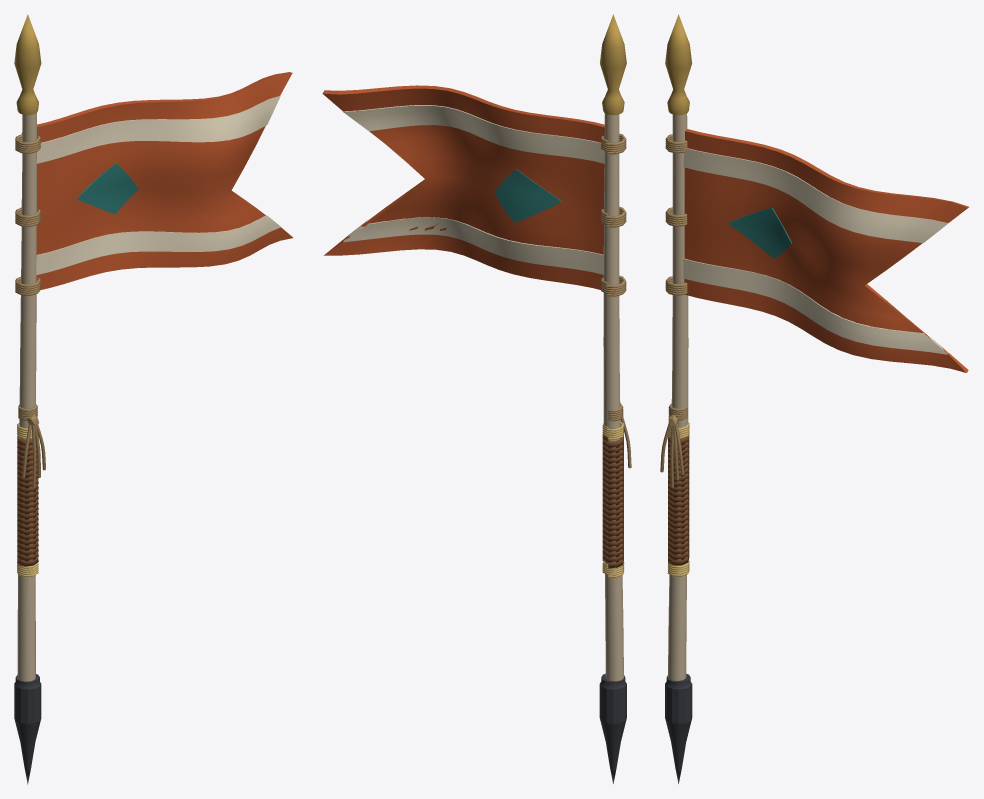
File: tool_signalflag.fbx
The picture shows the model from 3 angles, left to right: view 1: azimuth 30°, elevation 25°; view 2: azimuth 150°, elevation 25°; view 3: azimuth 330°, elevation 25°; orthographic projection.
Parts seen in each view (by area): view 1: Tool_SignalFlag_Cloth, Tool_SignalFlag_ClothTrim, Tool_SignalFlag_Staff, Tool_SignalFlag_GripWrap, Tool_SignalFlag_Ties, Tool_SignalFlag_IronWork, Tool_SignalFlag_Finial; view 2: Tool_SignalFlag_Cloth, Tool_SignalFlag_ClothTrim, Tool_SignalFlag_Staff, Tool_SignalFlag_GripWrap, Tool_SignalFlag_IronWork, Tool_SignalFlag_Finial, Tool_SignalFlag_Ties; view 3: Tool_SignalFlag_Cloth, Tool_SignalFlag_ClothTrim, Tool_SignalFlag_Staff, Tool_SignalFlag_GripWrap, Tool_SignalFlag_Ties, Tool_SignalFlag_IronWork, Tool_SignalFlag_Finial.
Boxes of the visible parts, box(x1,y1,x2,y2) form: Tool_SignalFlag_Cloth: box(36, 72, 293, 289); Tool_SignalFlag_ClothTrim: box(36, 95, 280, 274); Tool_SignalFlag_Staff: box(17, 113, 36, 681); Tool_SignalFlag_GripWrap: box(17, 423, 38, 577); Tool_SignalFlag_Ties: box(15, 132, 45, 487); Tool_SignalFlag_IronWork: box(14, 674, 41, 784); Tool_SignalFlag_Finial: box(14, 14, 41, 115); Tool_SignalFlag_Cloth: box(322, 85, 604, 289); Tool_SignalFlag_ClothTrim: box(342, 105, 604, 274); Tool_SignalFlag_Staff: box(603, 113, 623, 681); Tool_SignalFlag_GripWrap: box(602, 421, 624, 577); Tool_SignalFlag_IronWork: box(599, 673, 626, 783); Tool_SignalFlag_Finial: box(600, 14, 626, 115); Tool_SignalFlag_Ties: box(601, 133, 631, 468); Tool_SignalFlag_Cloth: box(684, 129, 968, 372); Tool_SignalFlag_ClothTrim: box(683, 148, 948, 354); Tool_SignalFlag_Staff: box(668, 113, 688, 680); Tool_SignalFlag_GripWrap: box(667, 422, 689, 576); Tool_SignalFlag_Ties: box(660, 134, 687, 487); Tool_SignalFlag_IronWork: box(665, 673, 692, 783); Tool_SignalFlag_Finial: box(665, 14, 691, 115).
Size of the model in its own units: 70.18 by 179 by 11.98.
